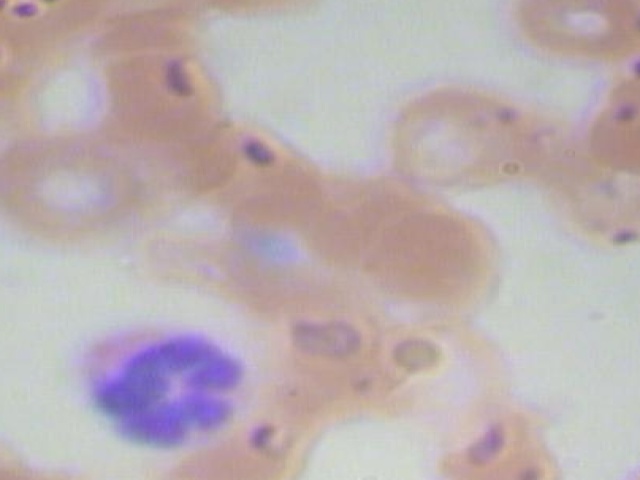RBC: (0, 127, 159, 249), (379, 77, 534, 195), (75, 43, 235, 154), (360, 205, 509, 319), (433, 397, 574, 480), (513, 0, 640, 68), (581, 63, 640, 178)
WBC: (59, 311, 262, 452)
